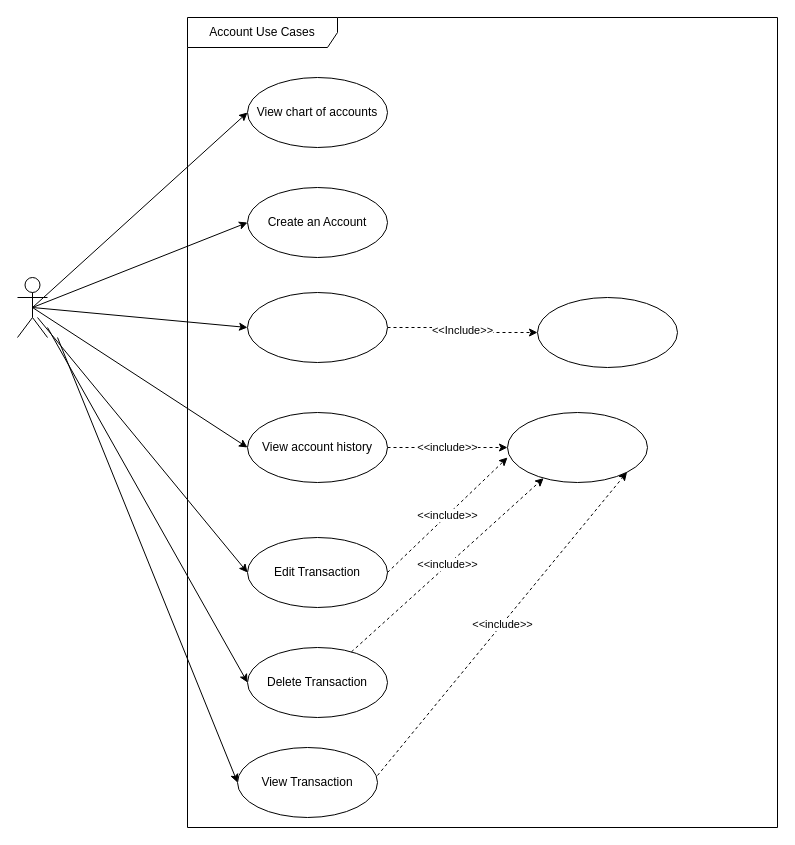
Image size: 795x845. Some labels were removed from this diagram. The shapes that lost their labels are listed below. From the top down, each one's centre as x and y in pixels, then its label:
At (x=32, y=307): "User".
At (x=317, y=327): "Make inactive".
At (x=607, y=332): "Update an account".
At (x=577, y=447): "List transactions".
